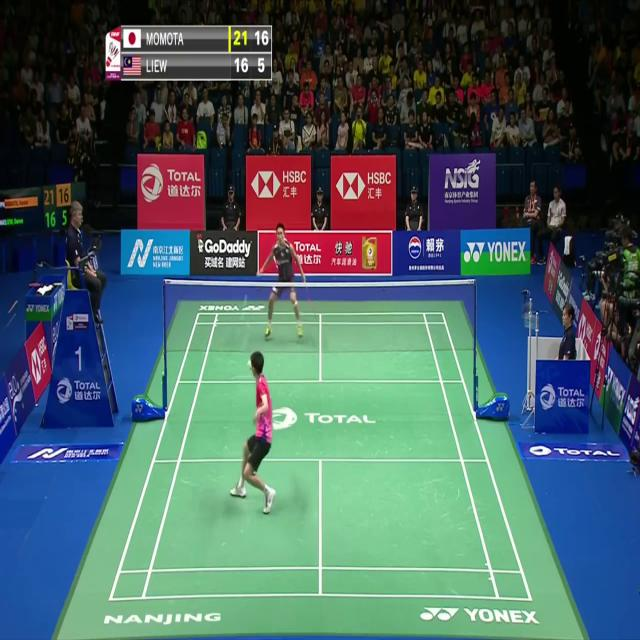Shuttlecock: (242, 296, 249, 307)
